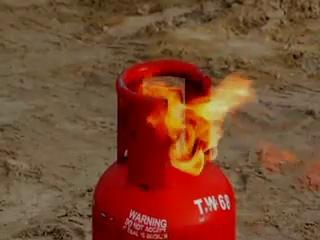Fire: (132, 54, 318, 196)
